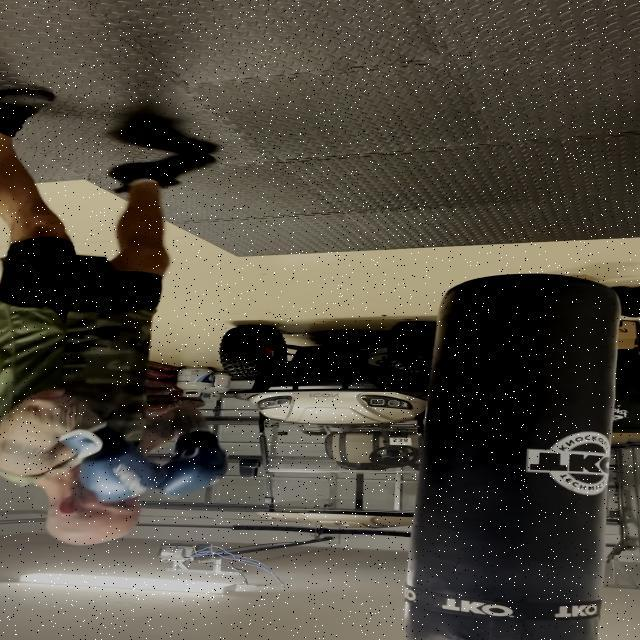no punch: (0, 400, 201, 500)
